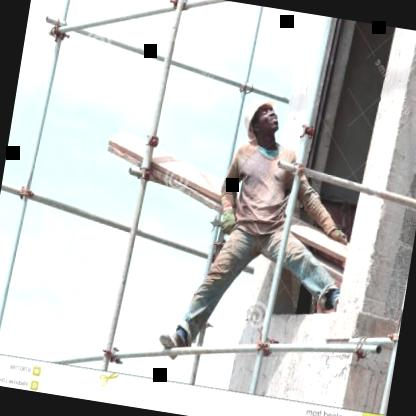helmet: (244, 98, 284, 145)
